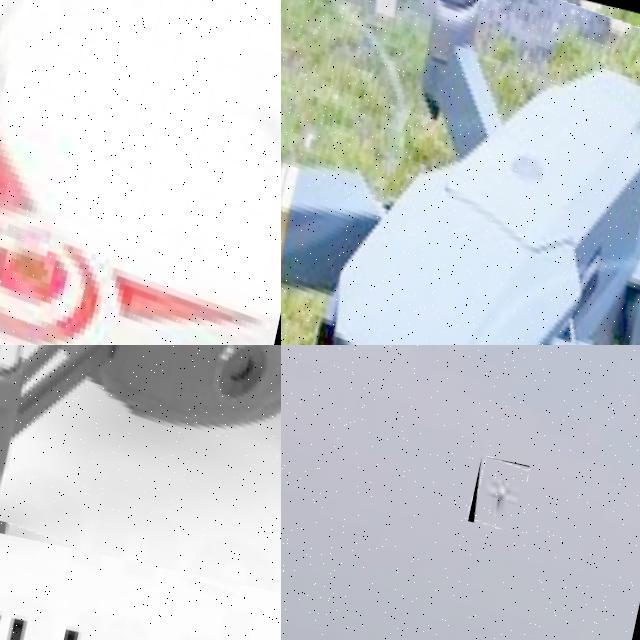0: (467, 455, 529, 531)
drone: (281, 0, 640, 345), (0, 0, 281, 345), (0, 345, 281, 603)
